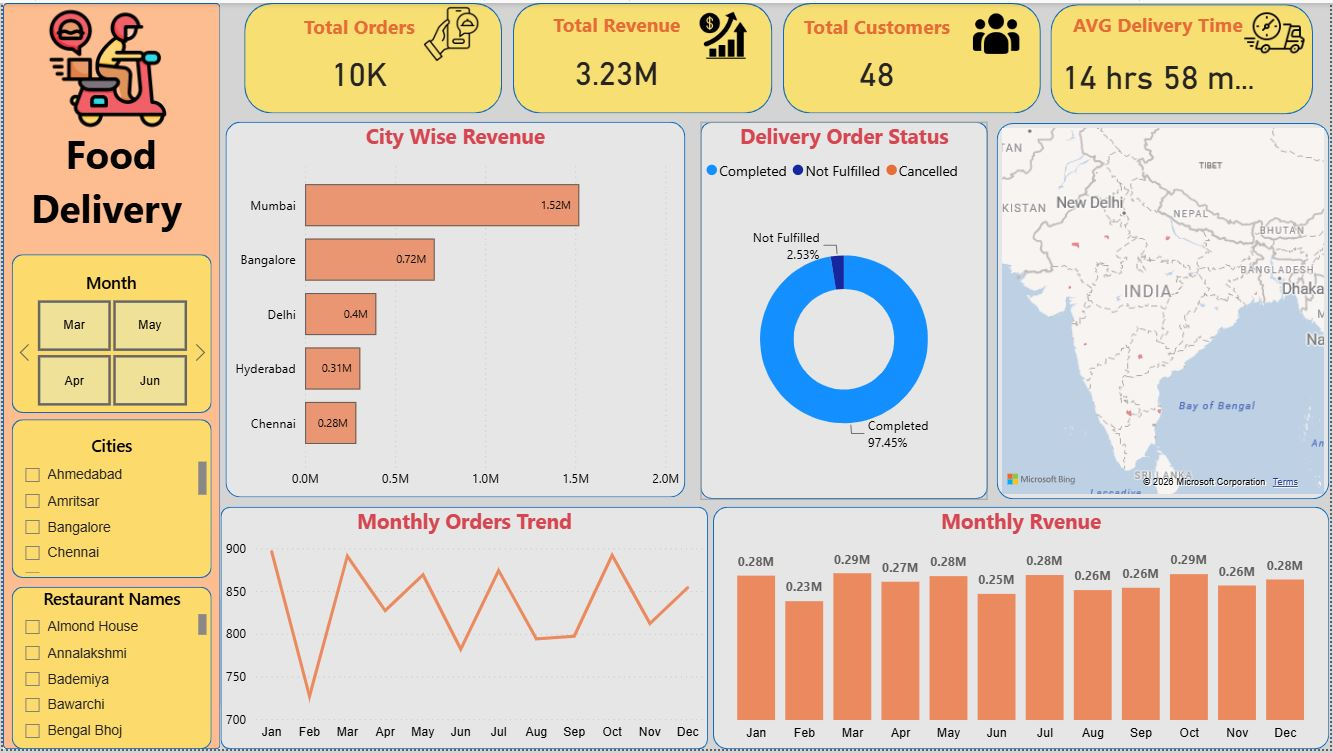

What the dashboard file says about the page in this screenshot:
{"tool":"powerbi","page":{"name":"Page 1","canvas":[1280,720],"ordinal":0},"visuals":[{"type":"shape","box":[233.2,0,248.9,106.7],"z":0},{"type":"shape","box":[492.1,0,250.3,106.7],"z":1000},{"type":"shape","box":[1011,1.2,253.4,106.2],"z":2000},{"type":"shape","box":[752.4,0,248.9,106.7],"z":3000},{"type":"shape","box":[209.9,532,444,188.2],"z":4000},{"type":"shape","box":[209.9,486.2,470.5,234],"z":5000},{"type":"shape","box":[685.3,486.2,594.8,234],"z":6000},{"type":"shape","box":[215,115.2,443.7,362.7],"z":7000},{"type":"shape","box":[672.7,115.2,277.3,364.1],"z":8000},{"type":"shape","box":[959.1,115.8,320.9,363.1],"z":9000},{"type":"card","title":"Total  Orders","fields":{"Values":["Orders.total_ordres"]},"box":[255.8,9.7,176.1,89.3],"z":10000},{"type":"card","title":"Total  Revenue","fields":{"Values":["Sum(Orders.total_amount)"]},"box":[504.9,8.5,176.4,89.6],"z":11000},{"type":"card","title":"Total  Customers","fields":{"Values":["Orders.total_customers"]},"box":[755.2,10,176.4,89.6],"z":12000},{"type":"shape","box":[0,0,209.9,720.2],"z":13000},{"type":"shape","box":[8.4,563.4,193,156.8],"z":14000},{"type":"slicer","title":"Restaurant Names","fields":{"Values":["restaurants.restaurant_name"]},"box":[8.4,563.4,193,156.8],"z":15000},{"type":"shape","box":[8.4,401.7,193,153.2],"z":16000},{"type":"slicer","title":"Cities","fields":{"Values":["restaurants.city"]},"box":[8.4,416.2,193,138.7],"z":17000},{"type":"shape","box":[8.4,242.5,193,153.2],"z":18000},{"type":"slicer","title":"Month","fields":{"Values":["Orders.month"]},"box":[7.2,258.2,194.2,137.5],"z":19000},{"type":"card","title":"AVG Delivery Time","fields":{"Values":["Orders.Average Delivery Time"]},"box":[1015.8,8.4,197.9,97.7],"z":20000},{"type":"lineClusteredColumnComboChart","title":"Monthly Rvenue","fields":{"Y":["Sum(Orders.total_amount)"],"Category":["Orders.month"]},"box":[685.3,486.2,594.8,234],"z":21000},{"type":"filledMap","fields":{"Category":["restaurants.city"]},"box":[959.1,115.8,320.9,363.1],"z":22000},{"type":"lineChart","title":"Monthly Orders Trend","fields":{"Category":["Orders.month"],"Y":["Orders.total_ordres"]},"box":[210.5,486.4,470.8,233.2],"z":23000},{"type":"clusteredBarChart","title":"City Wise Revenue","fields":{"Category":["restaurants.city"],"Y":["Sum(Orders.total_amount)"]},"box":[214.8,115.2,443.7,362.7],"z":24000},{"type":"donutChart","title":"Delivery Order Status","fields":{"Category":["Orders.order_status"],"Y":["Orders.total_ordres"]},"box":[672.7,115.2,277.3,364.1],"z":25000},{"type":"image","box":[8.4,2.4,185.8,121.9],"z":26000},{"type":"image","box":[1173.9,0,106.2,57.9],"z":27000},{"type":"image","box":[926.5,7.2,63.9,44.6],"z":28000},{"type":"image","box":[658.7,8.4,72.4,45.8],"z":29000},{"type":"image","box":[398.1,2.4,68.8,55.5],"z":30000},{"type":"textbox","box":[7.2,115.8,194.2,65.1],"z":31000},{"type":"textbox","box":[8.4,167.7,193,62.7],"z":32000}]}

Visuals, with their boxes in screenshot pixels (x1, y1, x2, y2), scaled from the page's 1280x720 canvas onto the 1333x753 screenshot:
shape: bbox(243, 0, 502, 112)
shape: bbox(512, 0, 773, 112)
shape: bbox(1053, 1, 1317, 112)
shape: bbox(784, 0, 1043, 112)
shape: bbox(219, 556, 681, 752)
shape: bbox(219, 508, 709, 752)
shape: bbox(714, 508, 1332, 752)
shape: bbox(224, 120, 686, 500)
shape: bbox(701, 120, 989, 501)
shape: bbox(999, 121, 1332, 501)
"Total  Orders" card: bbox(266, 10, 450, 104)
"Total  Revenue" card: bbox(526, 9, 710, 103)
"Total  Customers" card: bbox(786, 10, 970, 104)
shape: bbox(0, 0, 219, 752)
shape: bbox(9, 589, 210, 752)
"Restaurant Names" slicer: bbox(9, 589, 210, 752)
shape: bbox(9, 420, 210, 580)
"Cities" slicer: bbox(9, 435, 210, 580)
shape: bbox(9, 254, 210, 414)
"Month" slicer: bbox(7, 270, 210, 414)
"AVG Delivery Time" card: bbox(1058, 9, 1264, 111)
"Monthly Rvenue" lineClusteredColumnComboChart: bbox(714, 508, 1332, 752)
filledMap - restaurants.city: bbox(999, 121, 1332, 501)
"Monthly Orders Trend" lineChart: bbox(219, 509, 710, 752)
"City Wise Revenue" clusteredBarChart: bbox(224, 120, 686, 500)
"Delivery Order Status" donutChart: bbox(701, 120, 989, 501)
image: bbox(9, 3, 202, 130)
image: bbox(1223, 0, 1332, 61)
image: bbox(965, 8, 1031, 54)
image: bbox(686, 9, 761, 57)
image: bbox(415, 3, 486, 61)
textbox: bbox(7, 121, 210, 189)
textbox: bbox(9, 175, 210, 241)
